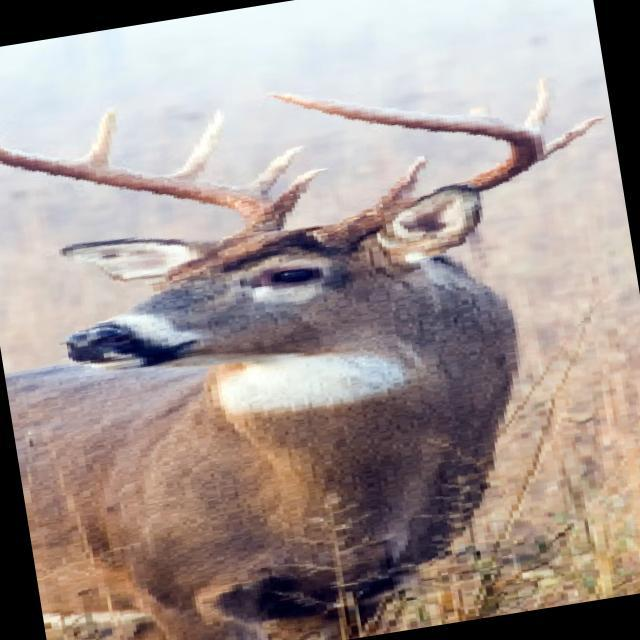L-G1: (371, 155, 430, 209)
L-G2: (541, 115, 608, 161)
L-G3: (519, 76, 553, 135)
R-F: (0, 146, 286, 240)
R-G1: (272, 167, 330, 216)
R-G2: (236, 145, 307, 198)
R-G3: (160, 108, 228, 183)
R-G4: (83, 109, 118, 169)
